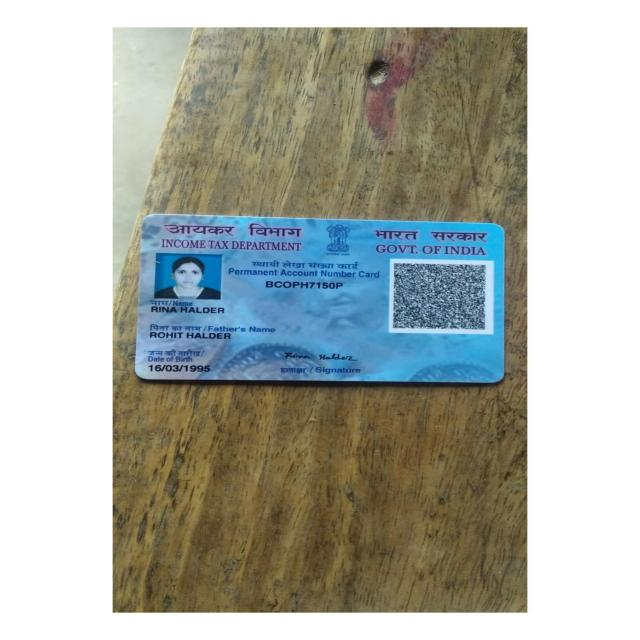pan_card: (136, 216, 505, 385)
